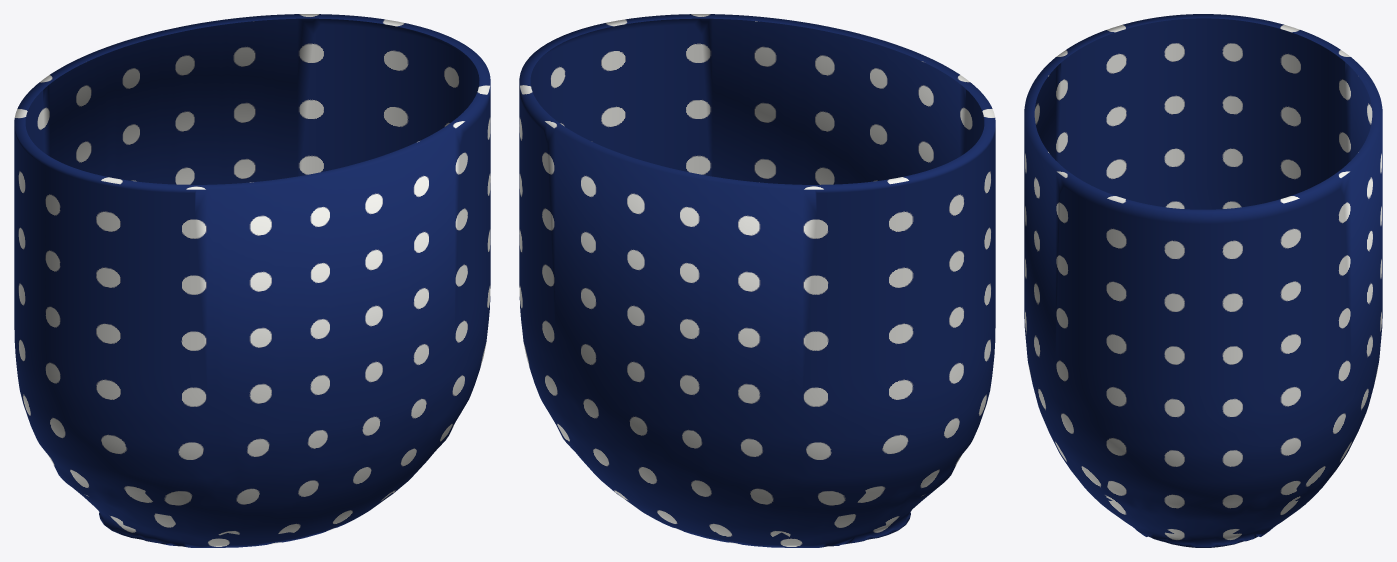
File: swimsuit2.fbx
The picture shows the model from 3 angles, left to right: view 1: azimuth 30°, elevation 25°; view 2: azimuth 150°, elevation 25°; view 3: azimuth 270°, elevation 25°; orthographic projection. The views are drawn at different scales.
Parts seen in each view (by area): view 1: swimsuit2; view 2: swimsuit2; view 3: swimsuit2.
Part boxes in pixels (box(x1,y1,x2,y2)): swimsuit2: box(14, 14, 490, 547); swimsuit2: box(519, 14, 995, 547); swimsuit2: box(1024, 14, 1382, 547).
Bounding box in the file's own units: 0.8145 × 0.7112 × 0.6163.
Materials: 1 (1 with a texture image).
